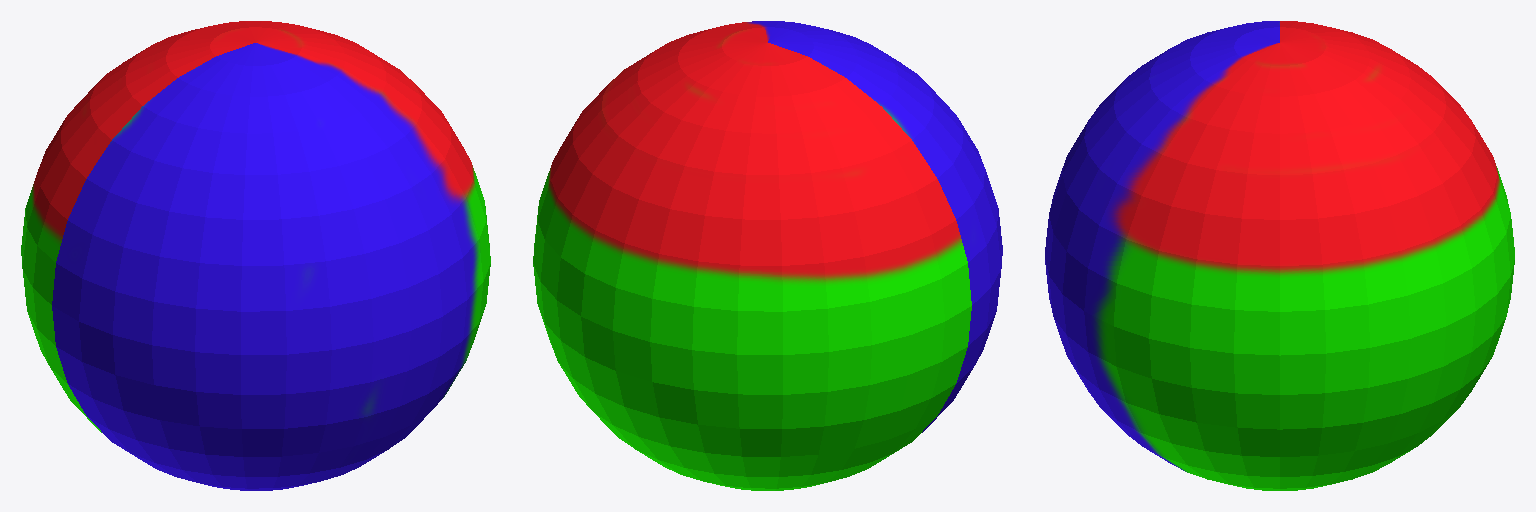
3 views of the same model, side by side, from view 1: azimuth 30°, elevation 25°; view 2: azimuth 150°, elevation 25°; view 3: azimuth 270°, elevation 25° (orthographic).
Visible parts, largest first — view 1: Sphere_Sphere_Material.001; view 2: Sphere_Sphere_Material.001; view 3: Sphere_Sphere_Material.001.
Part boxes in pixels (left/top/right/bottom): Sphere_Sphere_Material.001: left=21, top=21, right=490, bottom=490; Sphere_Sphere_Material.001: left=533, top=21, right=1002, bottom=490; Sphere_Sphere_Material.001: left=1045, top=21, right=1514, bottom=490.
Size of the model in its own units: 2 by 2 by 2.
Materials: 1 (1 with a texture image).